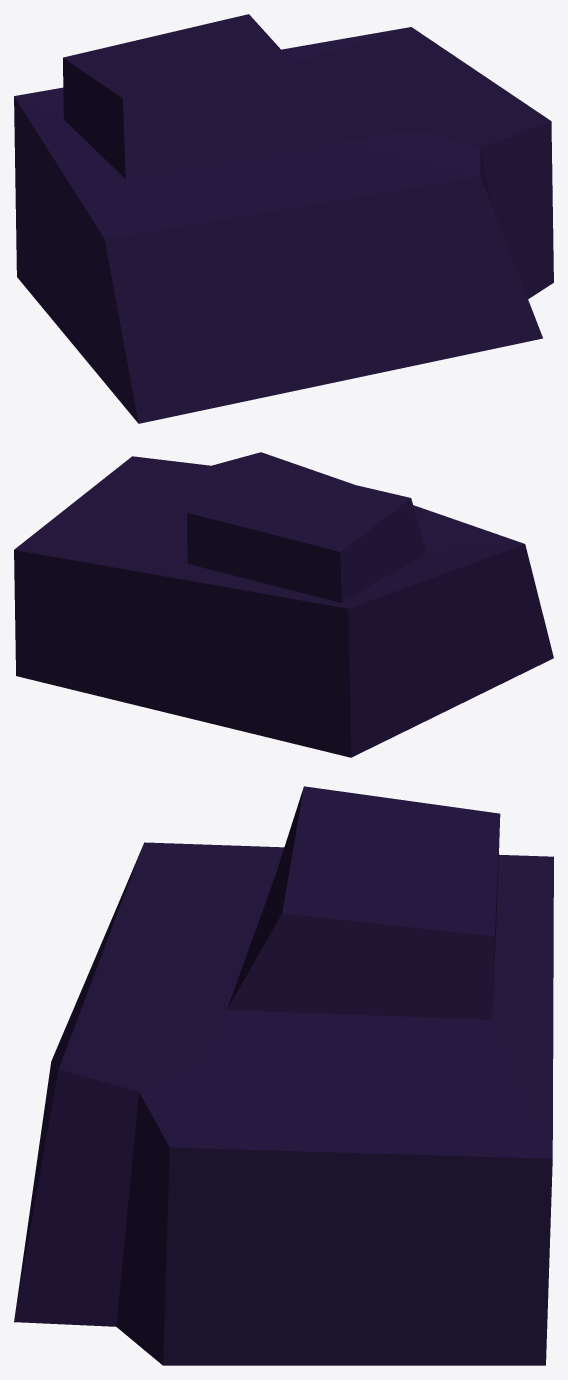
The model's file is stone_004_grp.fbx.
3 renders of one model, top to bottom at view 1: azimuth 30°, elevation 25°; view 2: azimuth 150°, elevation 25°; view 3: azimuth 270°, elevation 25°, orthographic. The views are drawn at different scales.
Visible parts, largest first — view 1: stone_004_grp; view 2: stone_004_grp; view 3: stone_004_grp.
Part boxes in pixels (x1,y1,x2,y2): stone_004_grp: (14,14,553,423); stone_004_grp: (14,452,553,757); stone_004_grp: (14,786,553,1365).
Bounding box in the file's own units: 200 × 100 × 150.
